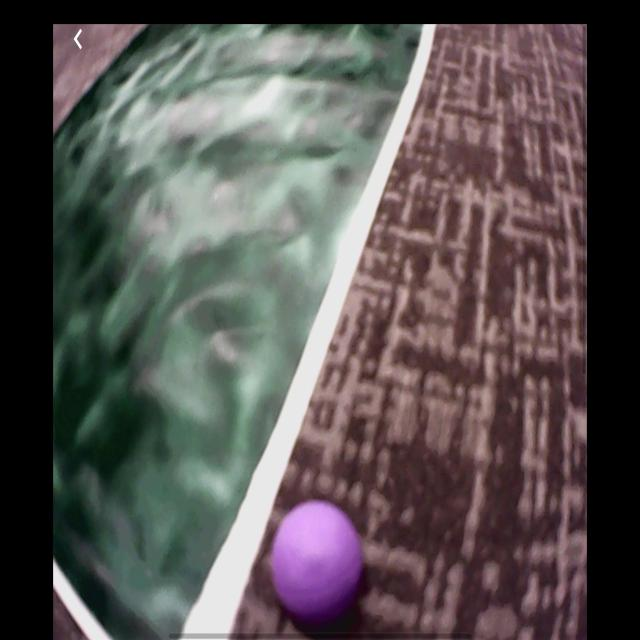ball: (274, 502, 359, 620)
